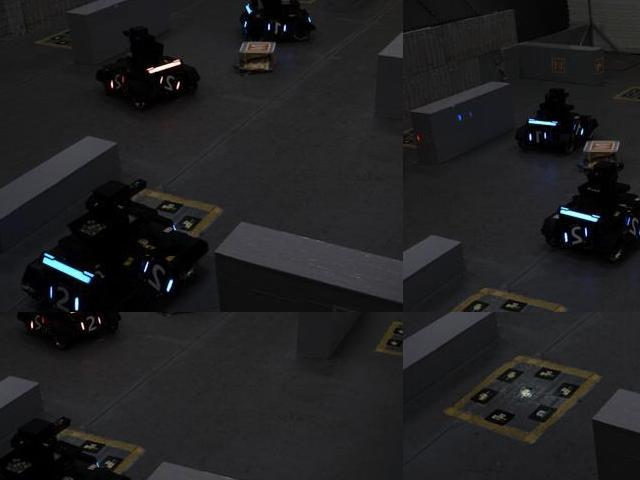armor: (139, 257, 181, 297), (43, 280, 84, 311), (560, 224, 592, 251), (75, 312, 106, 336), (107, 67, 129, 98), (155, 73, 185, 94), (264, 17, 294, 38), (27, 312, 49, 337), (528, 127, 552, 148), (623, 212, 639, 241), (572, 121, 589, 142)
